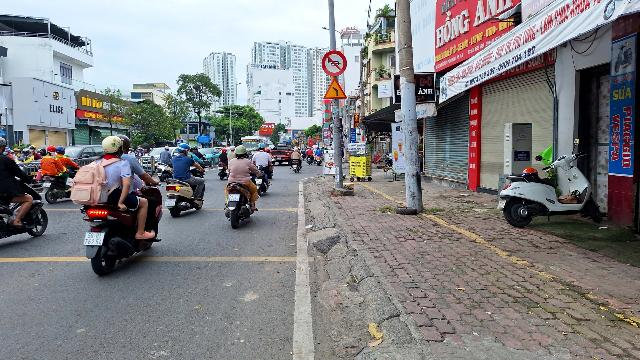cam-bop-coi: (321, 50, 347, 76)
cho-ngoat-nguy-hiem-ben-trai: (323, 78, 347, 99)
